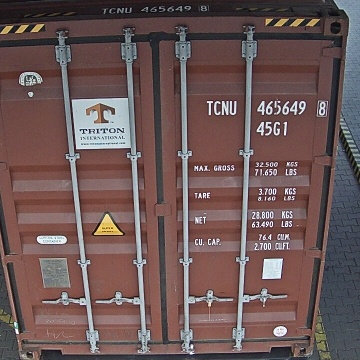serial_id: (207, 100, 327, 115)
